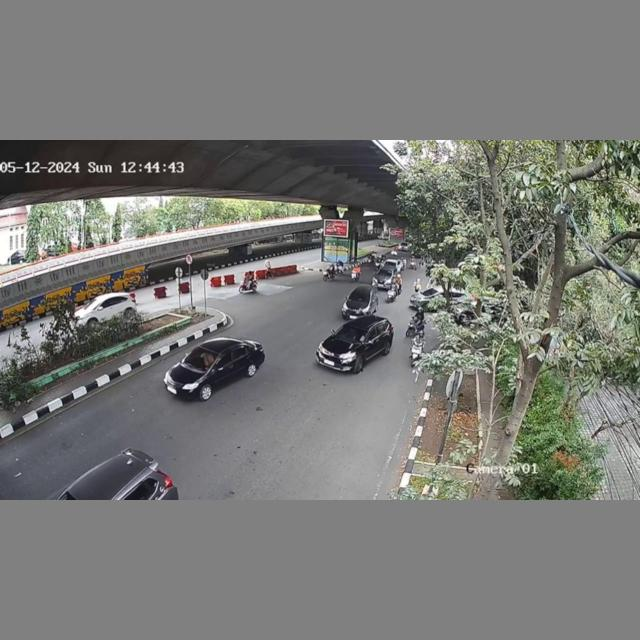windshield: (189, 347, 225, 373), (333, 322, 370, 345)
